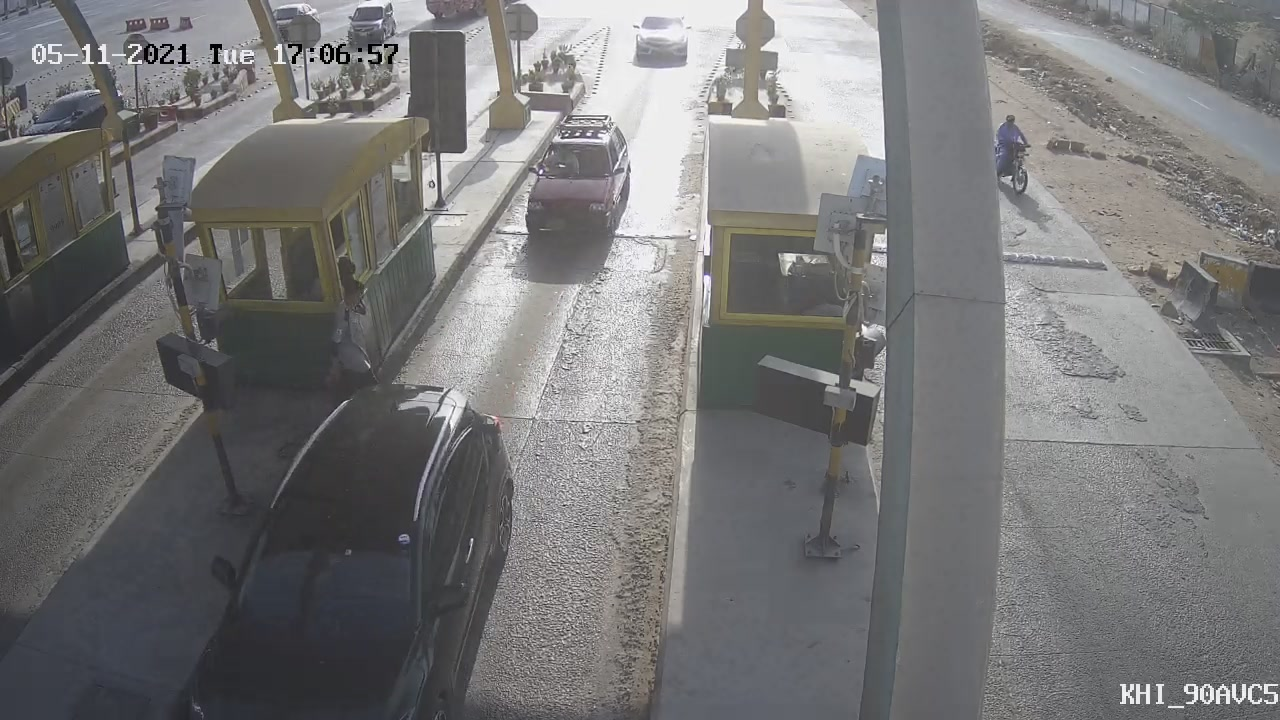F1: (503, 98, 652, 268)
